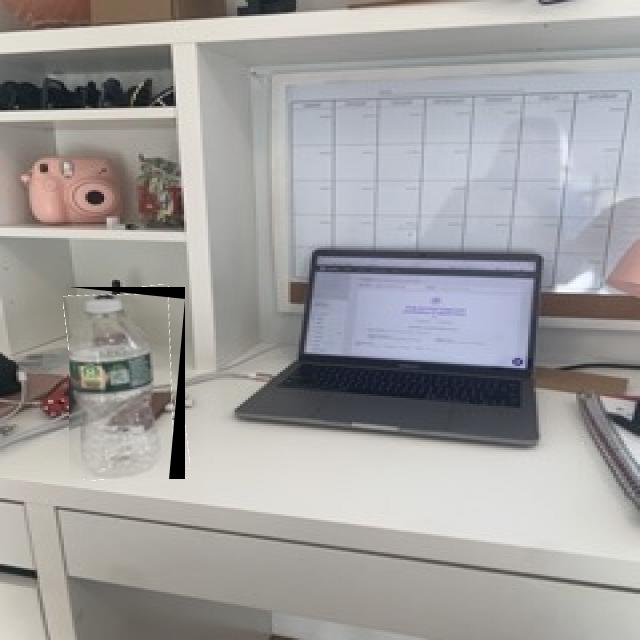water_bottle: (69, 287, 185, 479)
